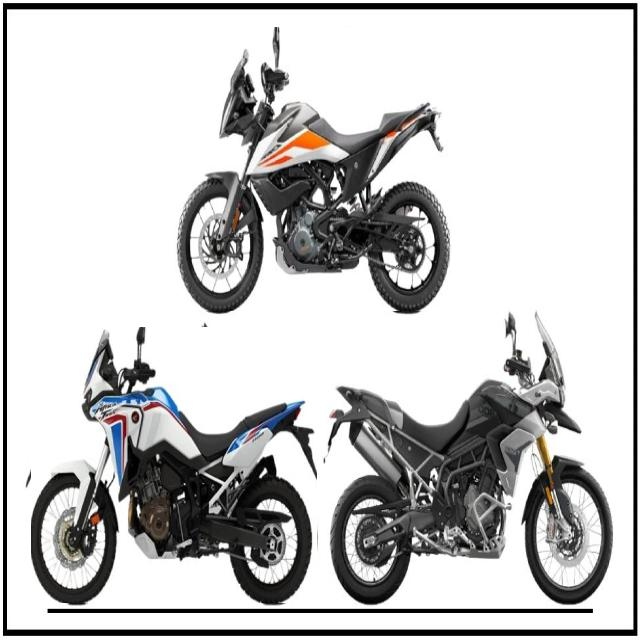motorcycle: (331, 316, 612, 603), (31, 328, 316, 603), (178, 27, 449, 311)
